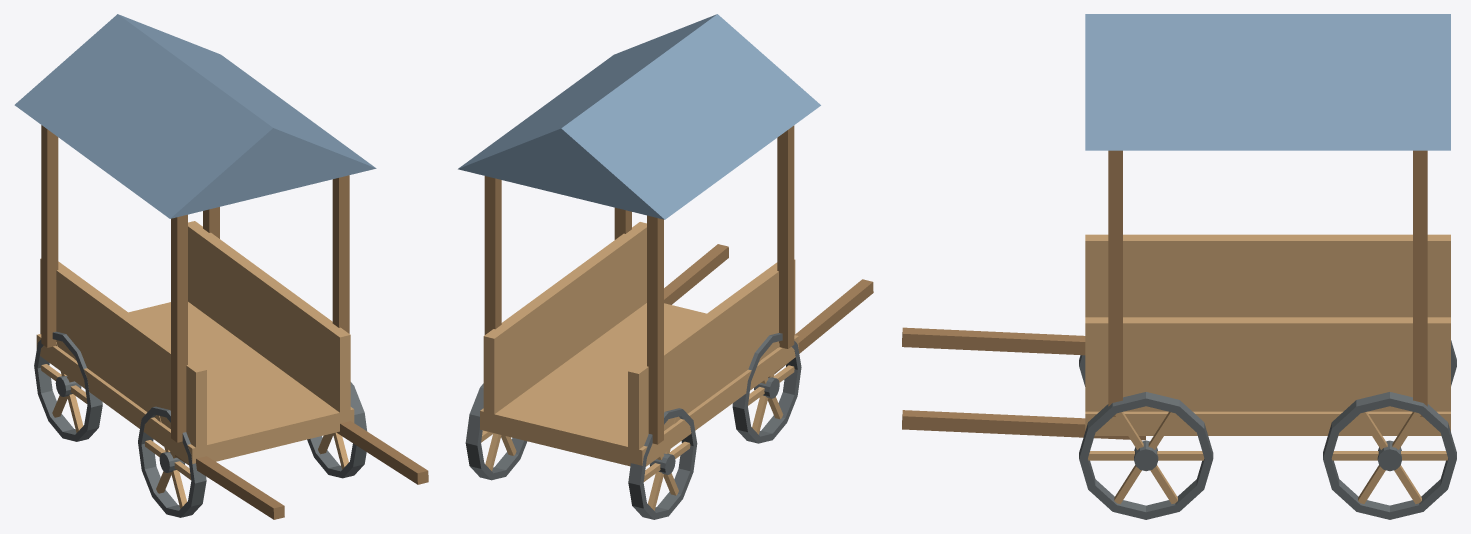
The model's file is trade-cart.glb.
The picture shows the model from 3 angles, left to right: view 1: azimuth 30°, elevation 25°; view 2: azimuth 150°, elevation 25°; view 3: azimuth 270°, elevation 25°; orthographic projection. The views are drawn at different scales.
Visible parts, largest first — view 1: trade-cart; view 2: trade-cart; view 3: trade-cart.
Part boxes in pixels (<box>): trade-cart: <box>14,14,428,519</box>; trade-cart: <box>458,14,873,519</box>; trade-cart: <box>902,14,1456,519</box>.
Bounding box in the file's own units: 2.3 × 4.1 × 4.55.
